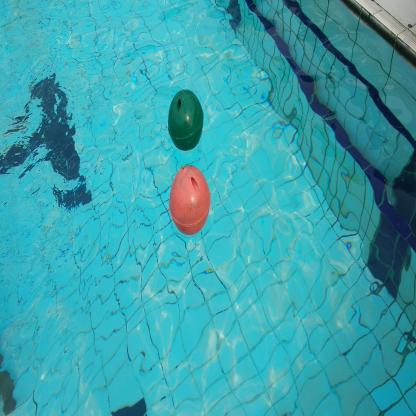green_buoy: (164, 80, 212, 156)
red_buoy: (160, 154, 218, 248)
